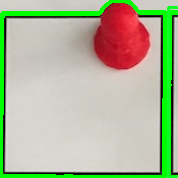Red Pawn: (89, 1, 151, 71)
